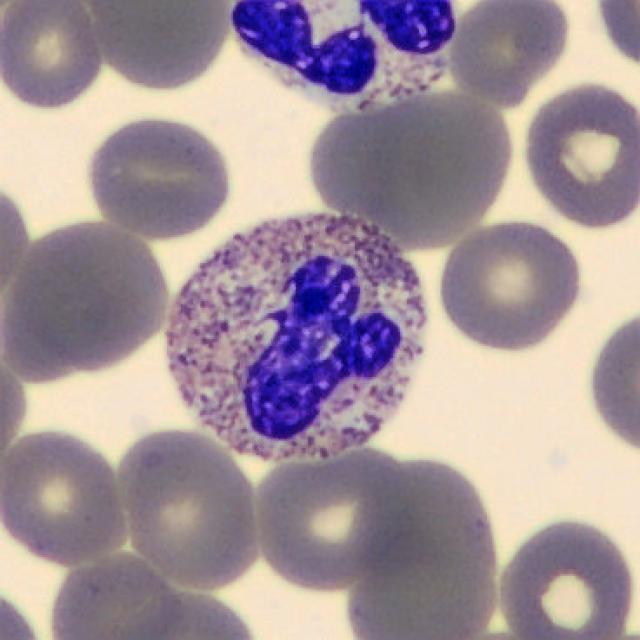Neutrofilo segmentado: (169, 214, 424, 458)
